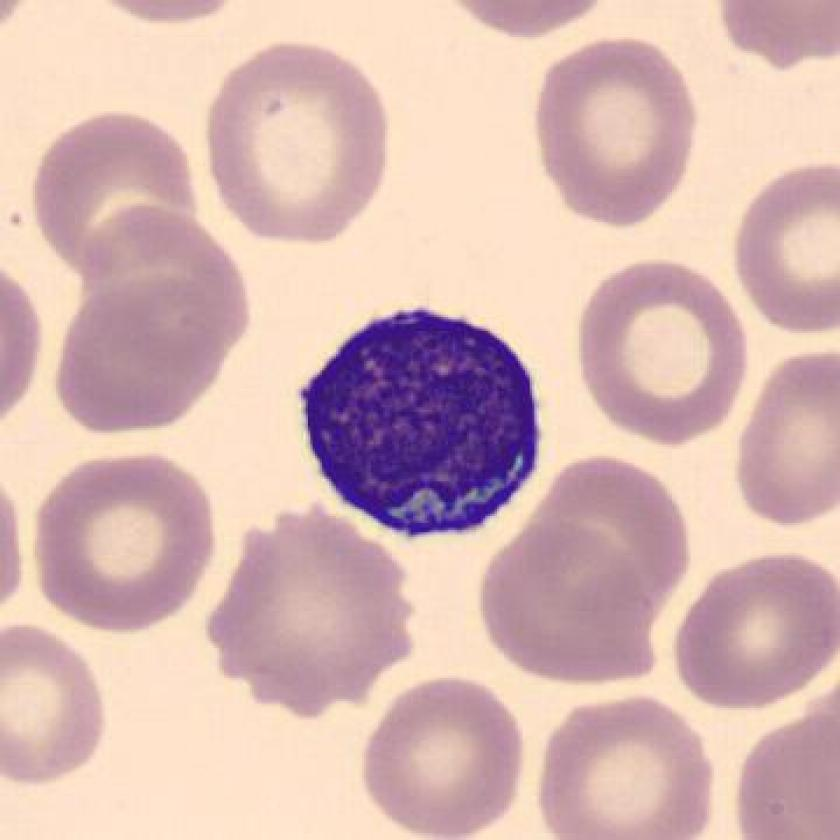lymphocyte: (279, 293, 568, 557)
